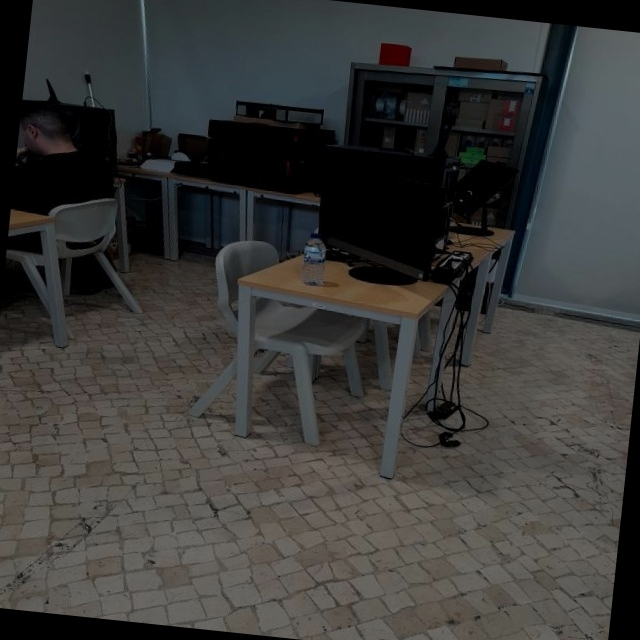Plastic-bottle: (289, 228, 325, 288)
